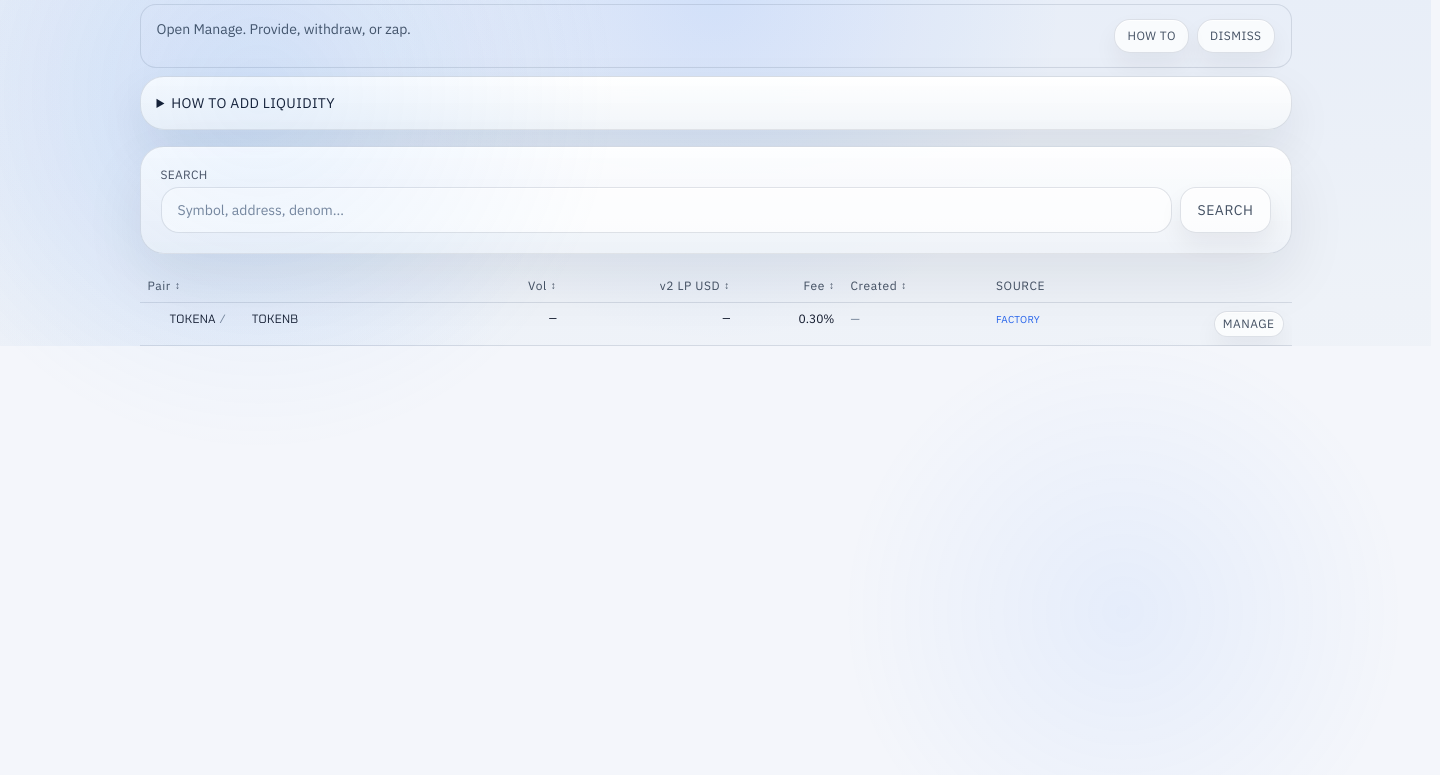
Test: PoolPage › shows withdraw pre-sign summary before submit when LP amount is entered (GitLab #462 / SEC-I05)
Click the button with test id "pool-row-manage".
click(1249, 324)  # box [1214,311,1284,337]
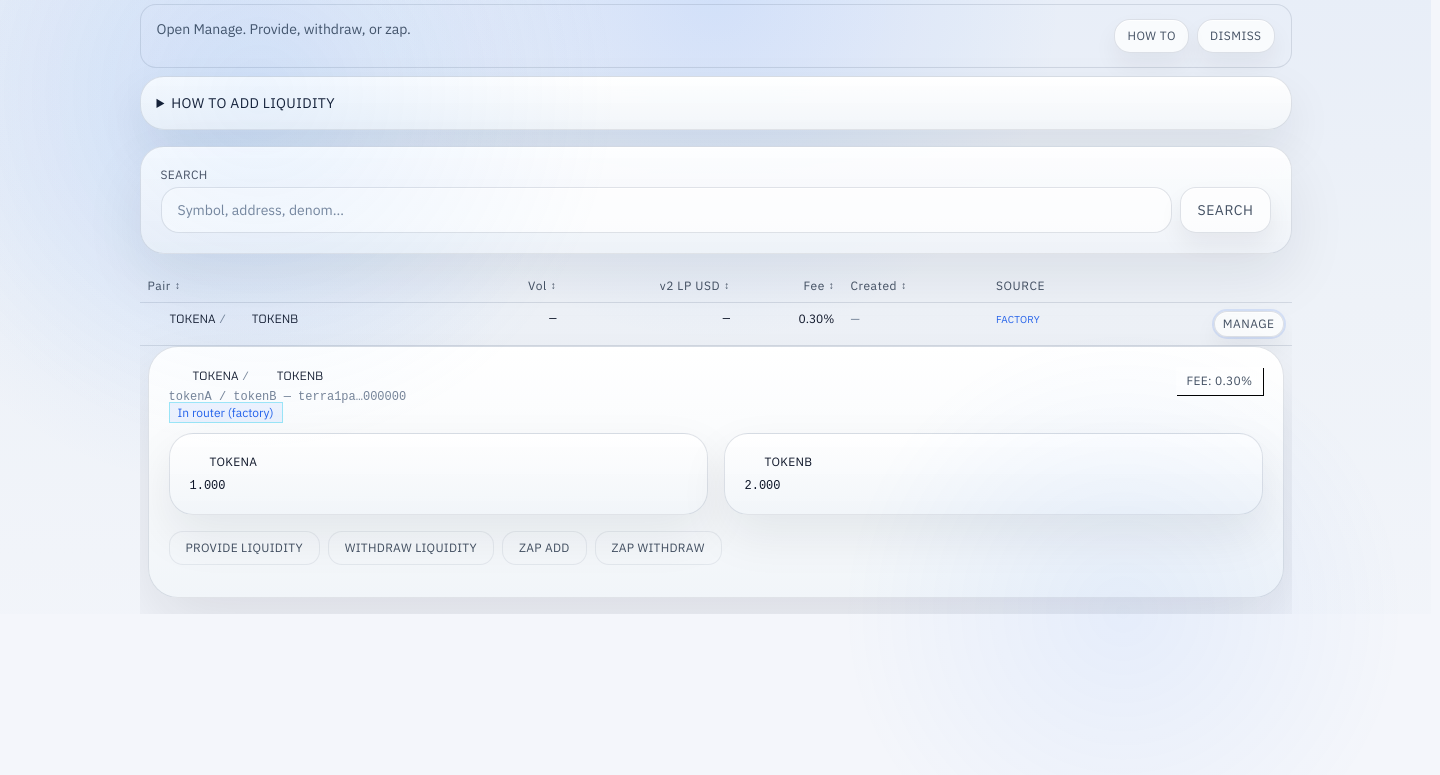
Expected: the element with test id "pool-manage-actions" is shown, [168,531,722,565]
Click the button with test id "pool-manage-tab-withdraw".
click(411, 548)  # box [328,531,494,565]
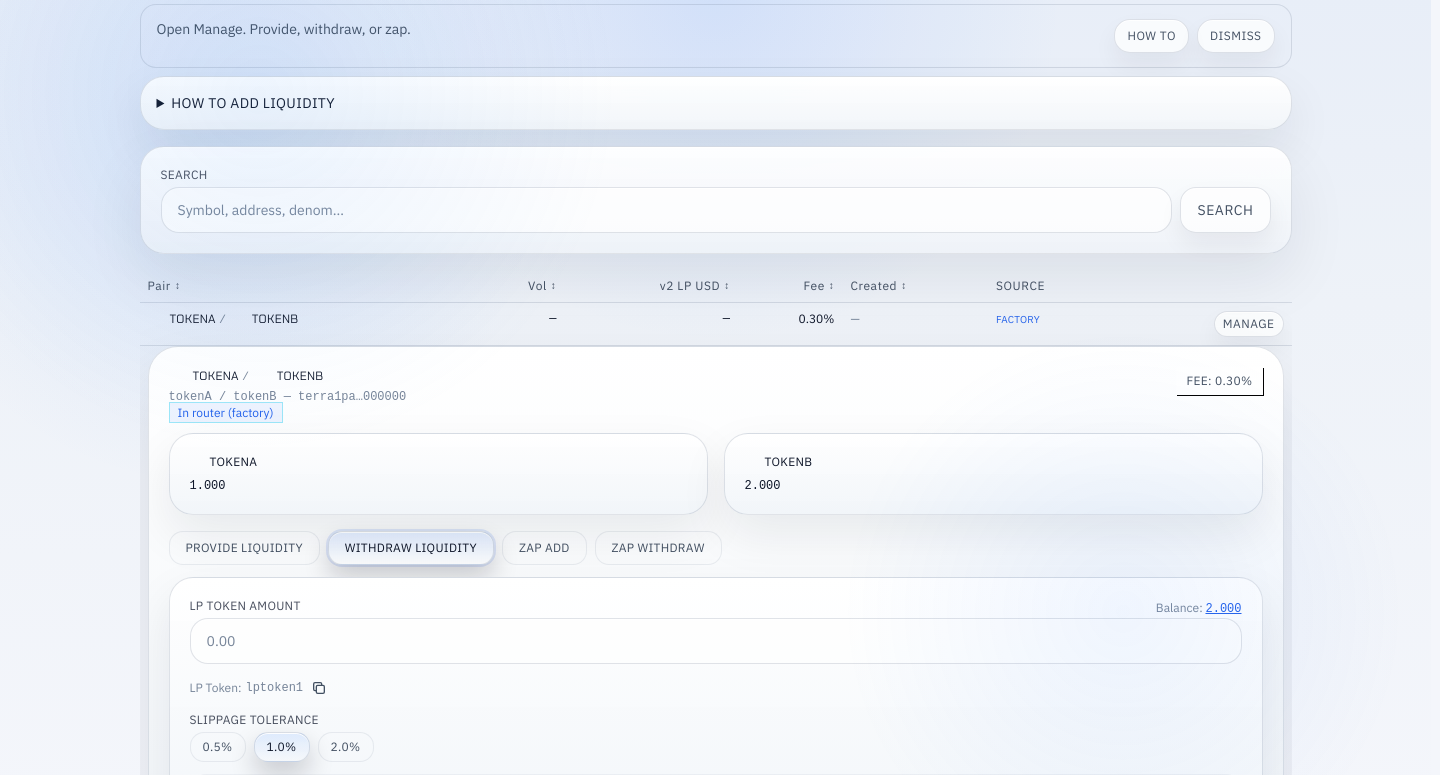
Type "1.5" into the field labelled "LP Token Amount".
click(716, 641); type("1.5")  # box [190,618,1242,664]
(page scrolled)
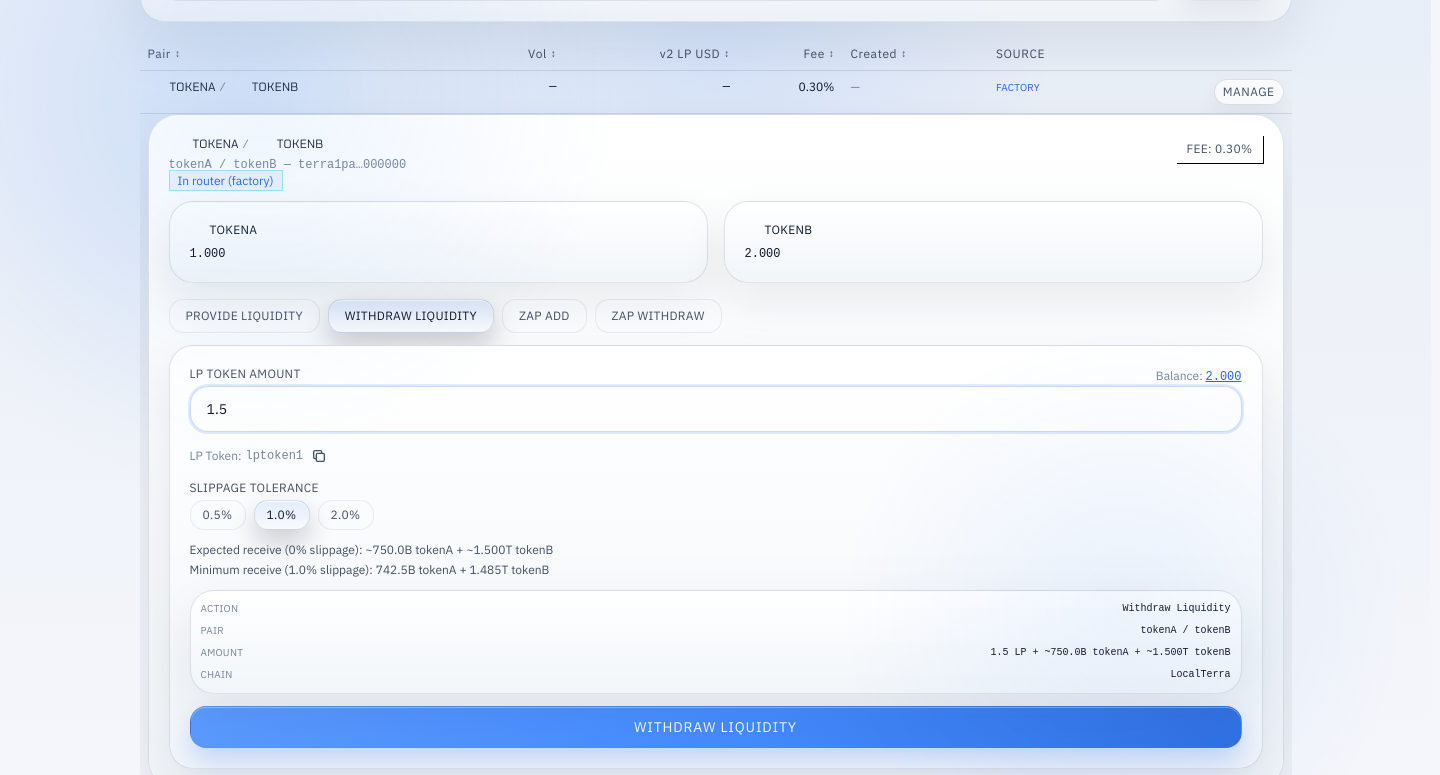
Expected: the element with test id "pool-withdraw-pre-submit-summary" shows "Withdraw Liquidity", [1122,603,1230,614]
Expected: the element with test id "pool-withdraw-pre-submit-summary-amount" shows "1.5 LP", [990,647,1230,658]
Expected: the element with test id "pool-withdraw-pre-submit-summary-amount" shows "tokenA", [990,647,1230,658]
